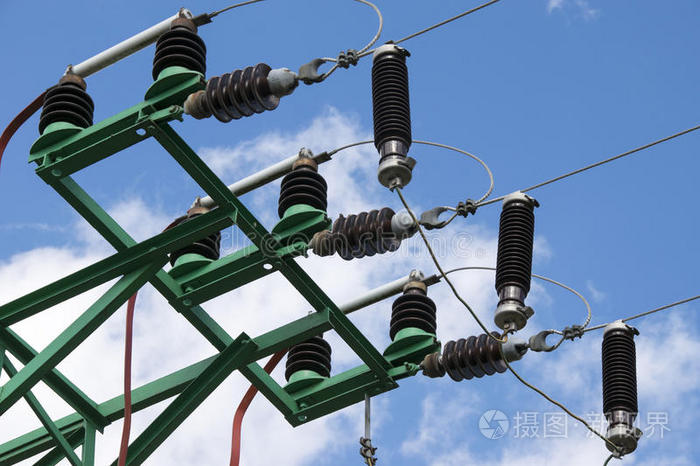insulator: (203, 62, 278, 122), (493, 204, 540, 293), (371, 58, 413, 149), (333, 205, 400, 262), (601, 332, 641, 416), (438, 333, 506, 381), (151, 31, 210, 77), (38, 87, 96, 131), (274, 172, 330, 217), (388, 292, 439, 340), (280, 334, 333, 377)
